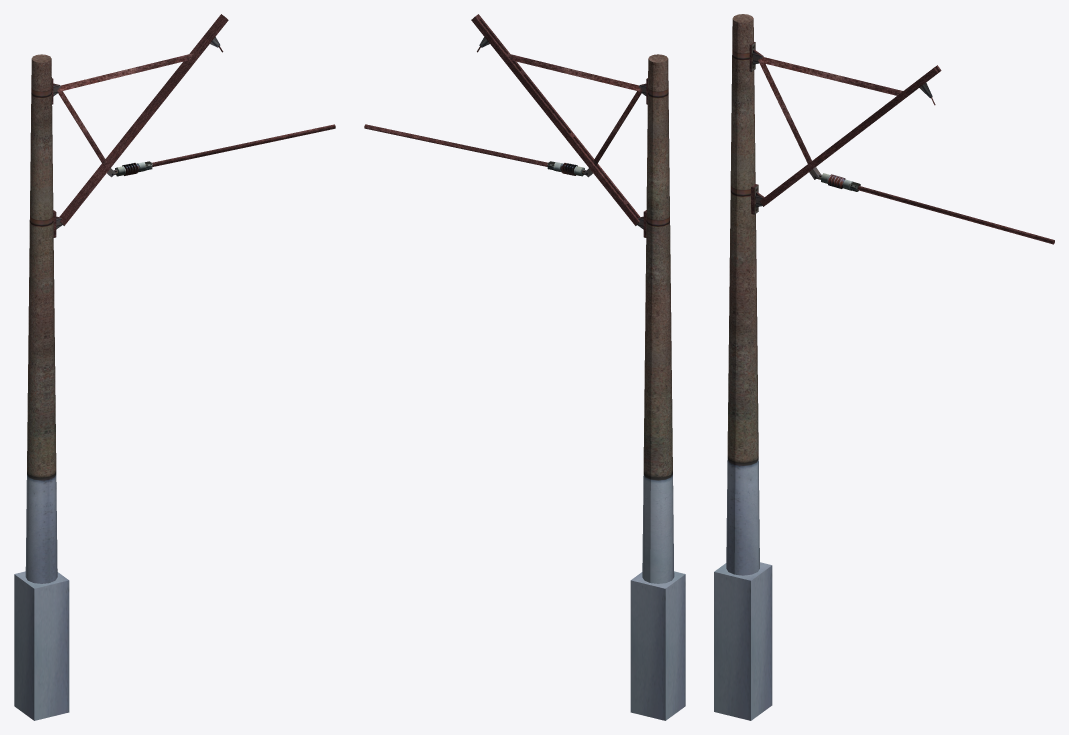
The model's file is opk1l.gltf.
3 renders of one model, left to right at view 1: azimuth 30°, elevation 25°; view 2: azimuth 150°, elevation 25°; view 3: azimuth 330°, elevation 25°, orthographic. The views are drawn at different scales.
Bounding box in the file's own units: 5.97 × 11.96 × 0.67.
1 material, 1 textured.
